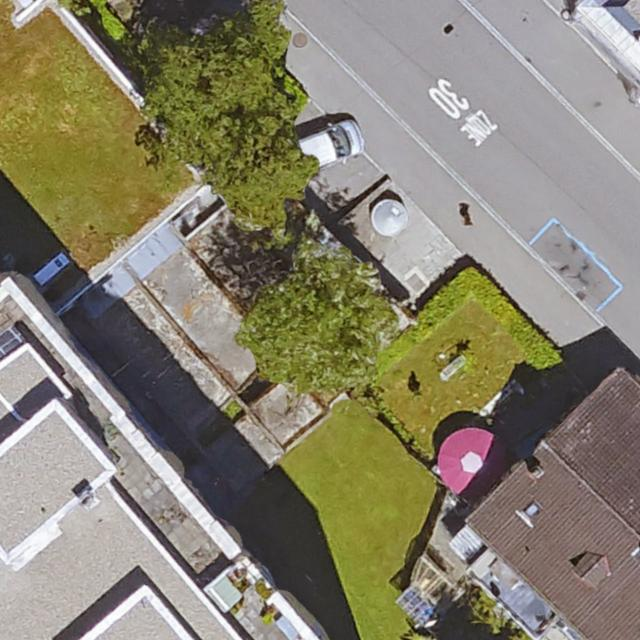tree: (146, 0, 320, 227), (239, 227, 392, 393)
